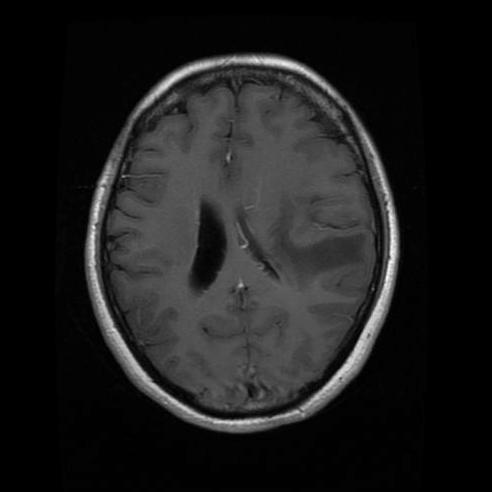Tumour-Glioma: (240, 216, 332, 283)
